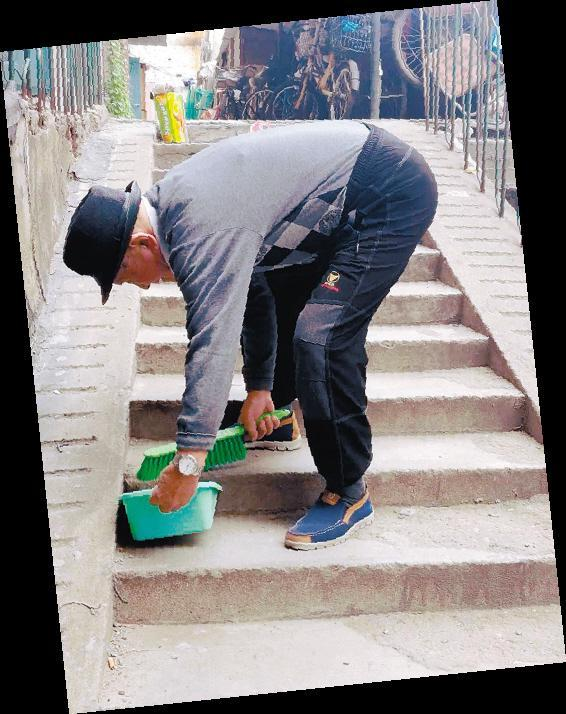bending: (51, 112, 444, 555)
